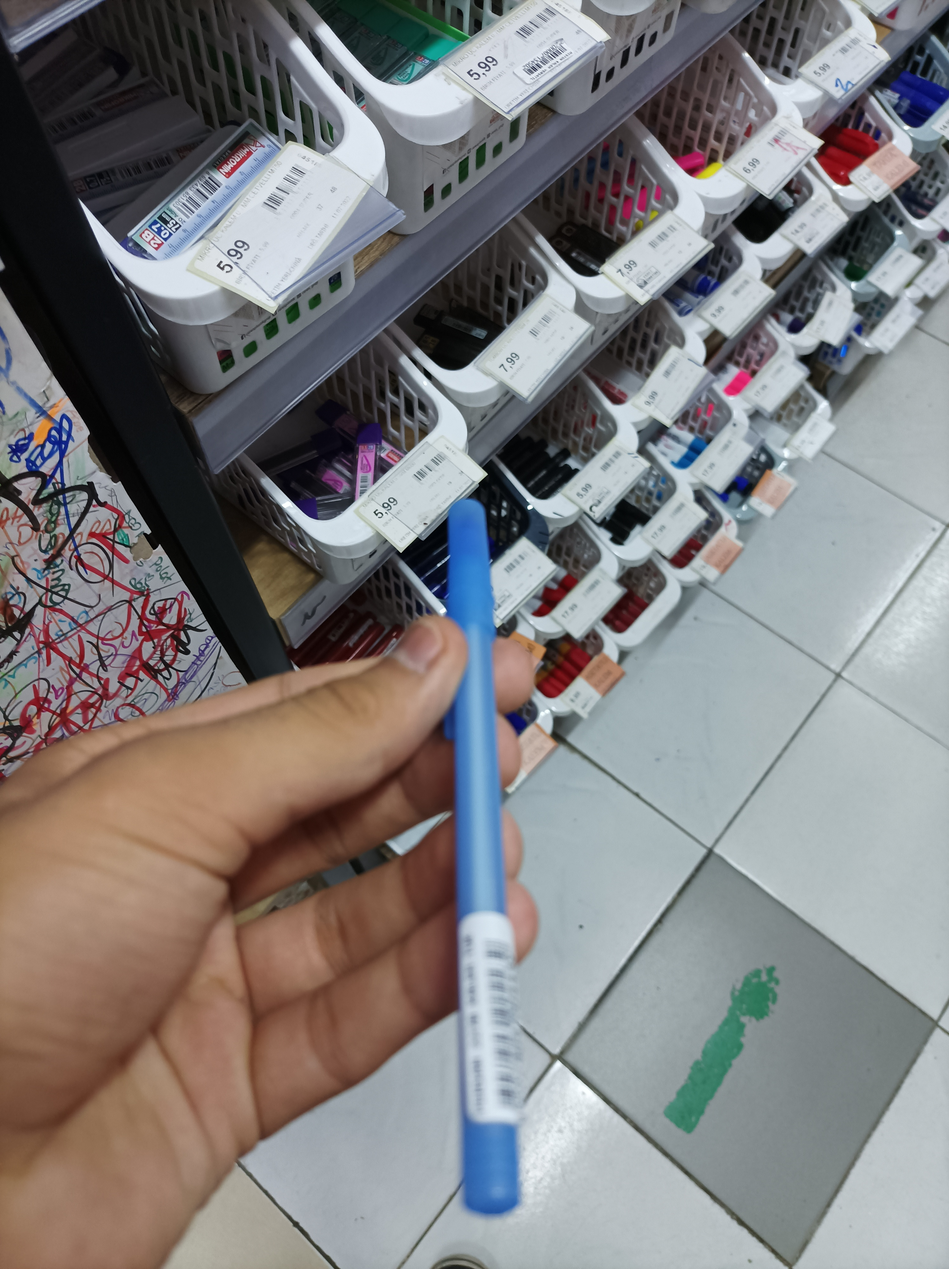plastic: (436, 498, 533, 1221)
